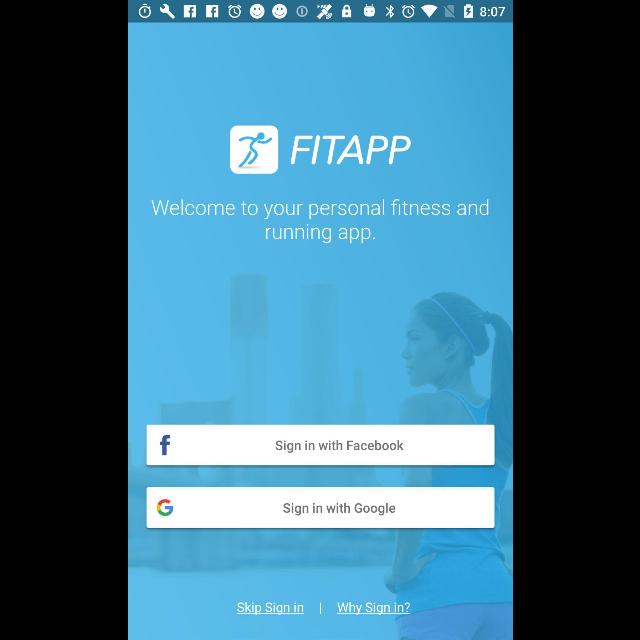backgroundimage: (128, 22, 512, 640)
image: (230, 126, 410, 174)
text: (150, 200, 488, 244), (336, 602, 409, 614), (236, 602, 304, 614)
textbutton: (146, 424, 494, 466), (146, 488, 494, 528)
uppertaskbar: (128, 1, 512, 23)
